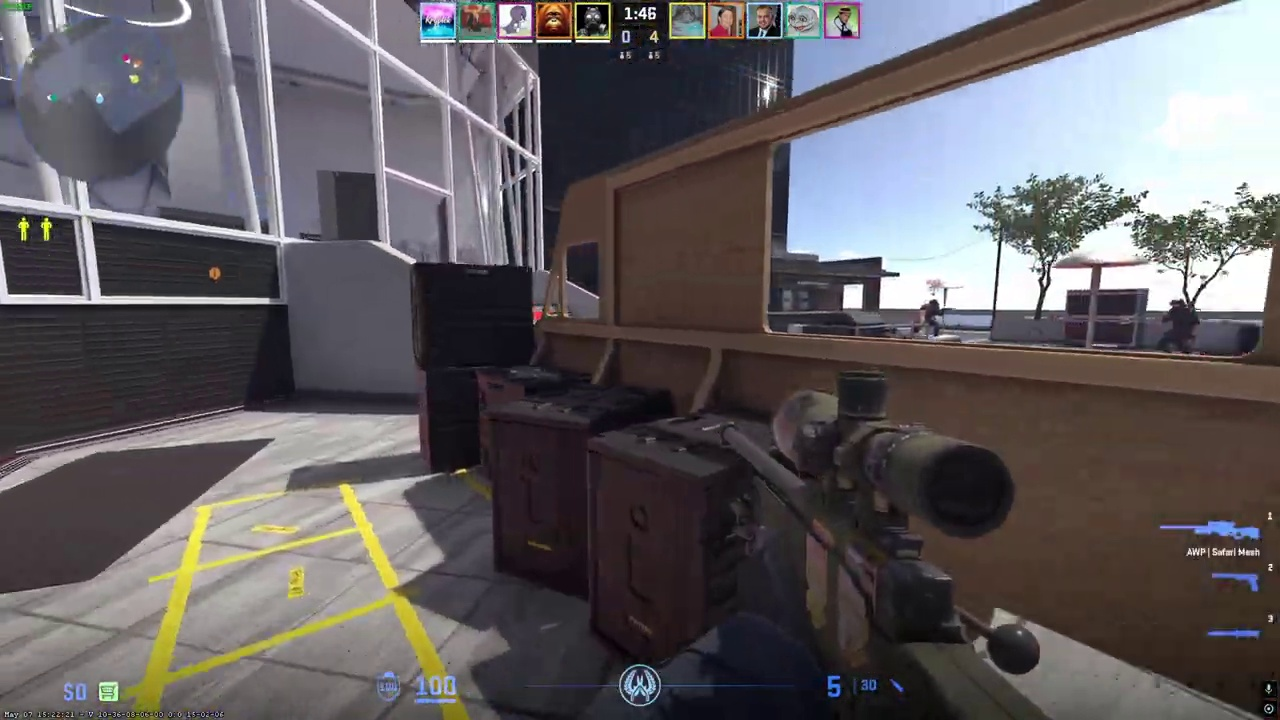CT: (1163, 299, 1196, 356), (916, 300, 945, 339)
